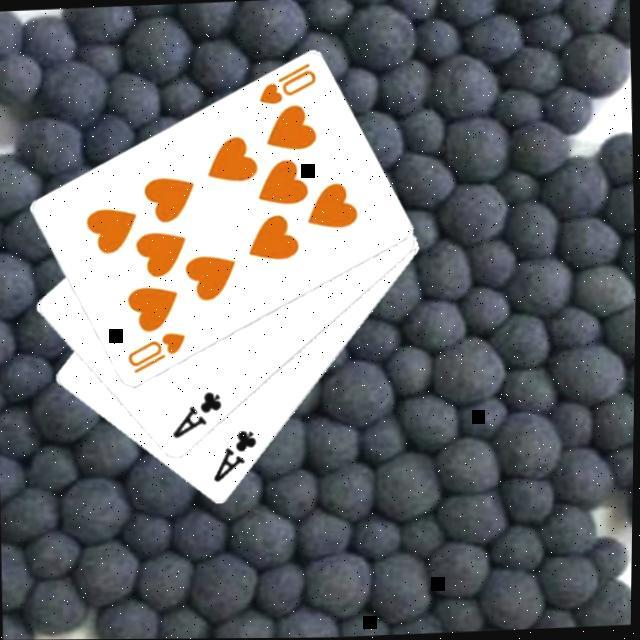10H: (124, 327, 192, 376), (254, 59, 322, 108)
AC: (167, 387, 228, 441), (209, 425, 263, 485)
